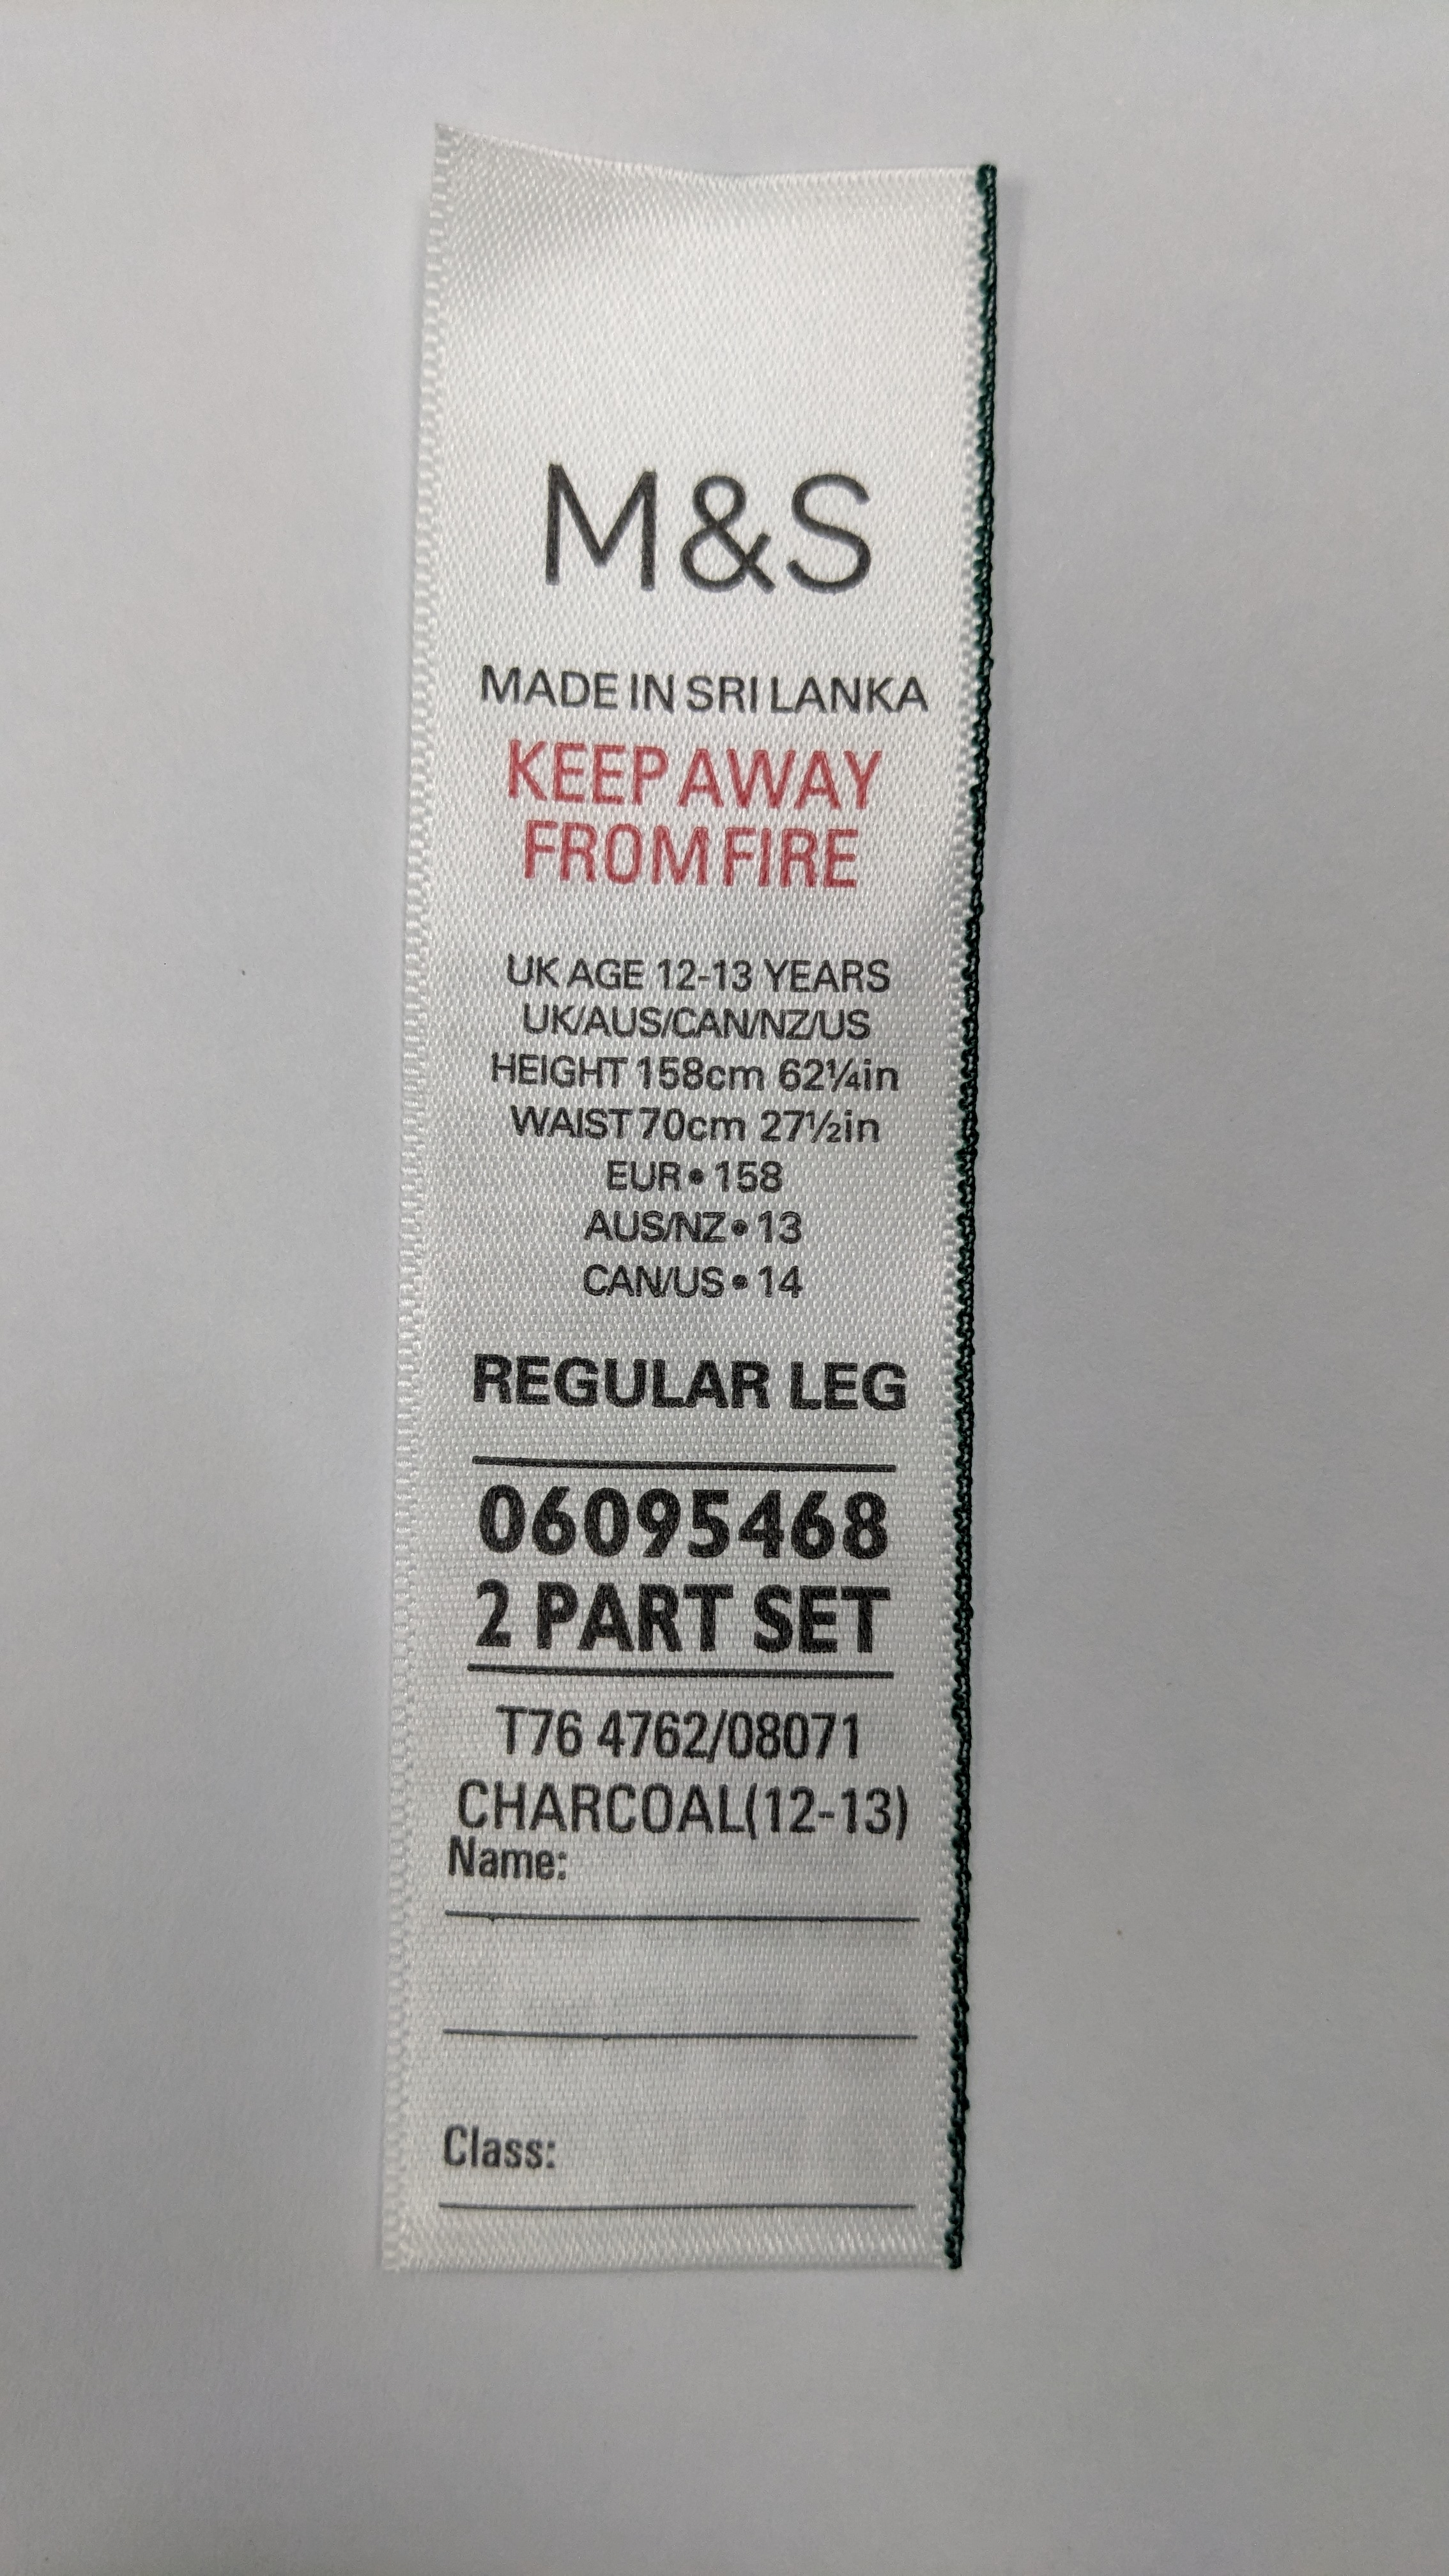Good_label: (387, 69, 1012, 2325)
